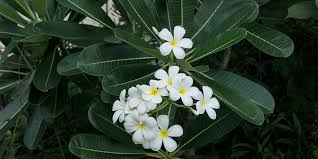frangipani: (159, 26, 193, 59)
